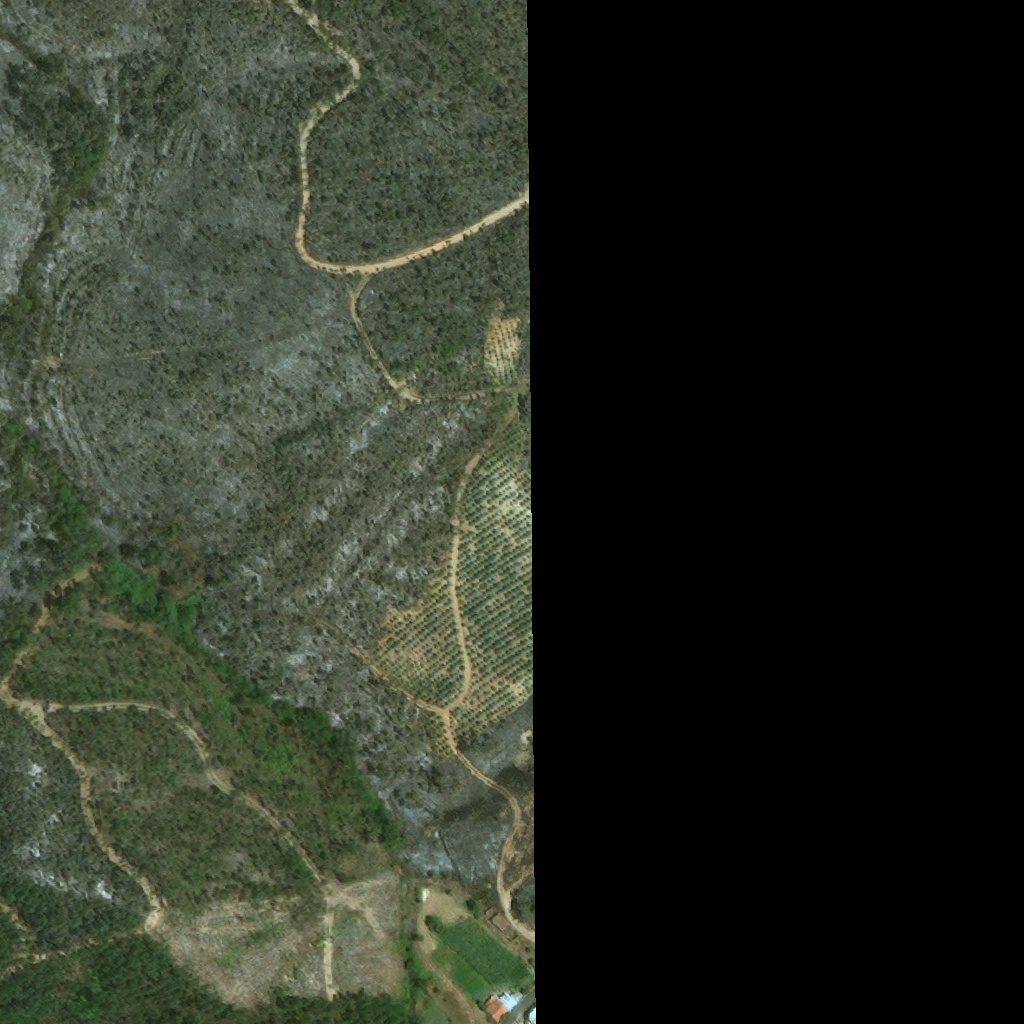0 no-damage: (480, 991, 525, 1023)
4 un-classified: (527, 1005, 541, 1023)
